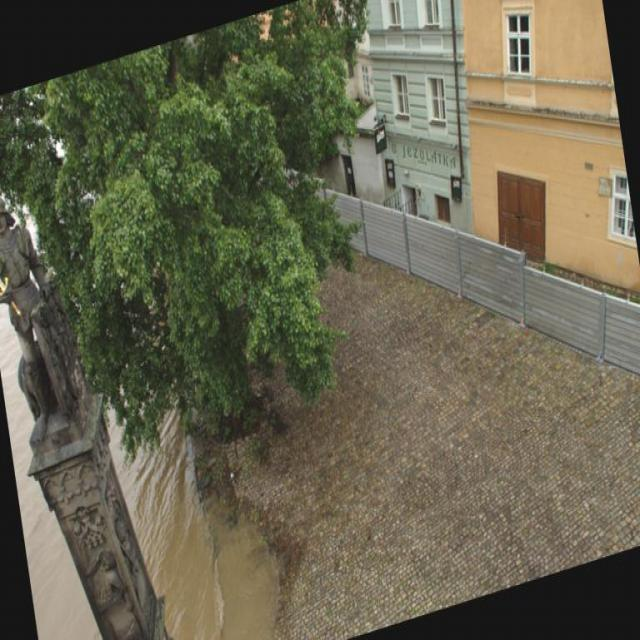flood: (0, 243, 230, 639)
